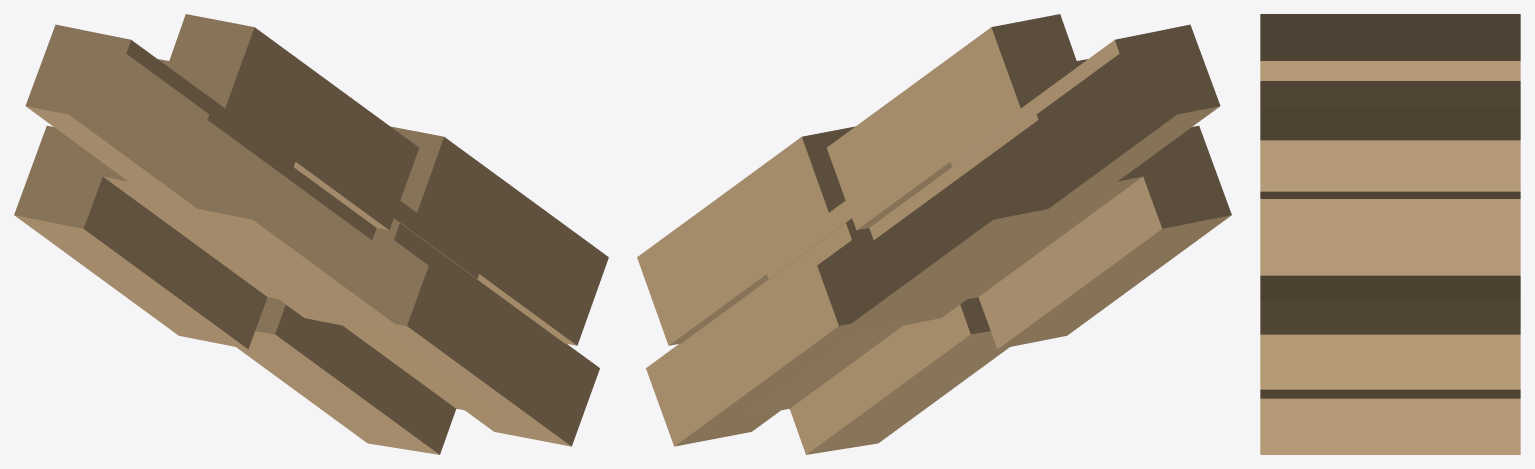
The picture shows the model from 3 angles, left to right: view 1: azimuth 30°, elevation 25°; view 2: azimuth 150°, elevation 25°; view 3: azimuth 270°, elevation 25°; orthographic projection. The views are drawn at different scales.
Visible parts, largest first — view 1: 0_0_3_1_3_2_1_0_1; view 2: 0_0_3_1_3_2_1_0_1; view 3: 0_0_3_1_3_2_1_0_1.
Part boxes in pixels (x1=…): 0_0_3_1_3_2_1_0_1: x1=14, y1=14, x2=608, y2=454; 0_0_3_1_3_2_1_0_1: x1=637, y1=14, x2=1231, y2=454; 0_0_3_1_3_2_1_0_1: x1=1260, y1=14, x2=1520, y2=454.
Bounding box in the file's own units: 36.17 × 31.11 × 24.
